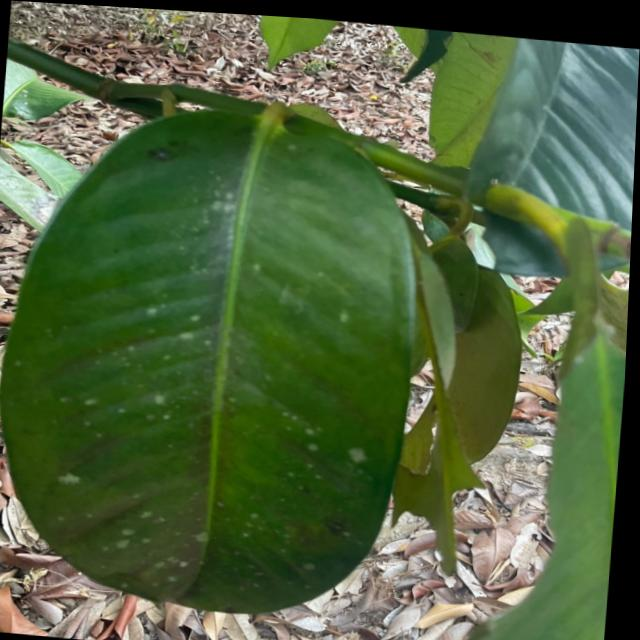Leaf Spot: (114, 486, 377, 602), (114, 276, 255, 444), (265, 385, 392, 504), (52, 459, 129, 510)
